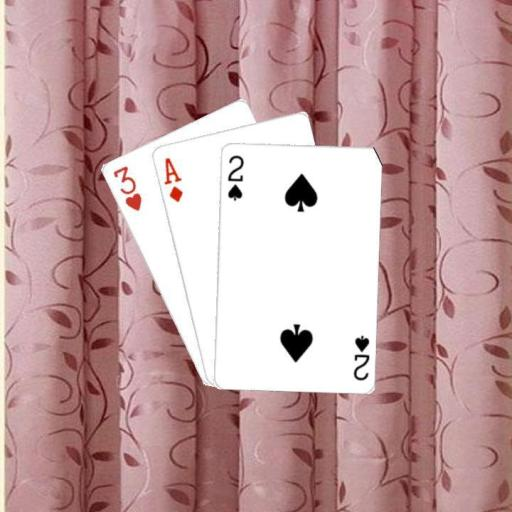card-corner: (109, 162, 143, 213), (161, 154, 184, 204), (224, 151, 245, 202), (350, 331, 370, 382)
